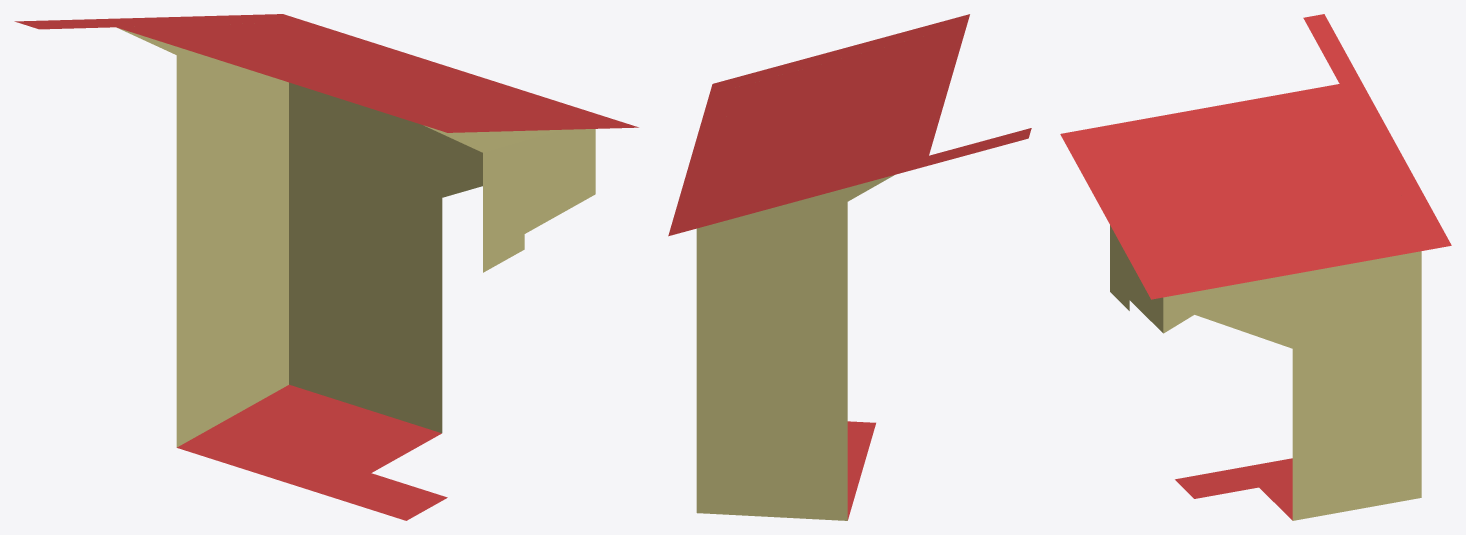
The picture shows the model from 3 angles, left to right: view 1: azimuth 30°, elevation 25°; view 2: azimuth 150°, elevation 25°; view 3: azimuth 270°, elevation 25°; orthographic projection. The views are drawn at different scales.
Bounding box in the file's own units: 13.94 × 12.76 × 13.
